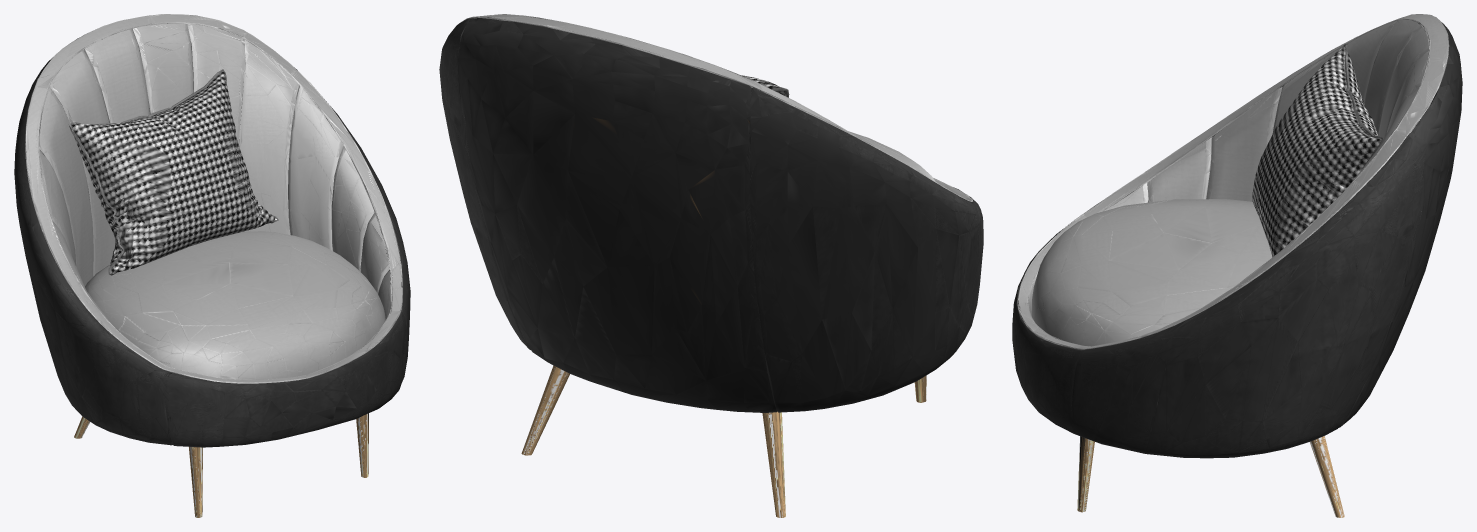
The model's file is raw_model.obj.
3 renders of one model, left to right at view 1: azimuth 30°, elevation 25°; view 2: azimuth 150°, elevation 25°; view 3: azimuth 270°, elevation 25°, orthographic. The views are drawn at different scales.
Parts seen in each view (by area): view 1: solid_002, solid_004, solid_001, solid_003; view 2: solid_004, solid_002, solid_003; view 3: solid_004, solid_002, solid_001, solid_003.
Boxes of the visible parts, x1,y1,x2,y2 form: solid_002: (25,14,402,383); solid_004: (14,23,410,447); solid_001: (68,69,278,275); solid_003: (74,413,368,517); solid_004: (439,17,983,412); solid_002: (459,14,972,201); solid_003: (521,365,926,517); solid_004: (1012,22,1462,458); solid_002: (1017,14,1449,349); solid_001: (1252,44,1383,257); solid_003: (1077,436,1344,517).
Bounding box in the file's own units: 0.7304 × 0.7428 × 0.7231.
1 material, 1 textured.
